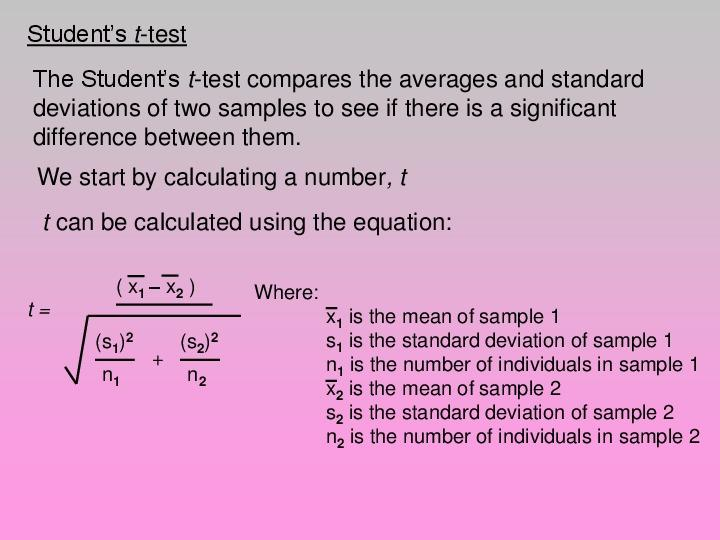paragraph: (16, 56, 720, 481)
title: (20, 19, 200, 56)
